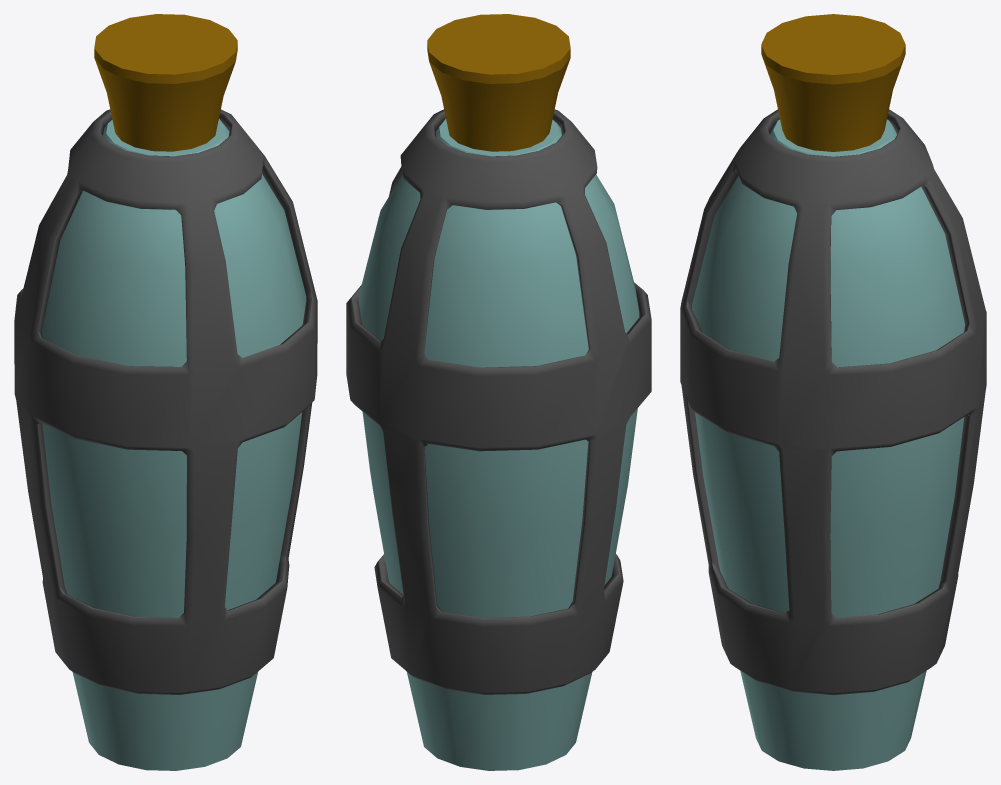
The model's file is SM_Bottle_01d.fbx.
3 renders of one model, left to right at view 1: azimuth 30°, elevation 25°; view 2: azimuth 150°, elevation 25°; view 3: azimuth 270°, elevation 25°, orthographic.
Parts seen in each view (by area): view 1: SM_Bottle_01d; view 2: SM_Bottle_01d; view 3: SM_Bottle_01d.
Boxes of the visible parts, left/top/right/bottom form: SM_Bottle_01d: left=14, top=14, right=317, bottom=770; SM_Bottle_01d: left=346, top=14, right=651, bottom=770; SM_Bottle_01d: left=680, top=14, right=986, bottom=770.
Bounding box in the file's own units: 13.26 × 33.11 × 13.26.
